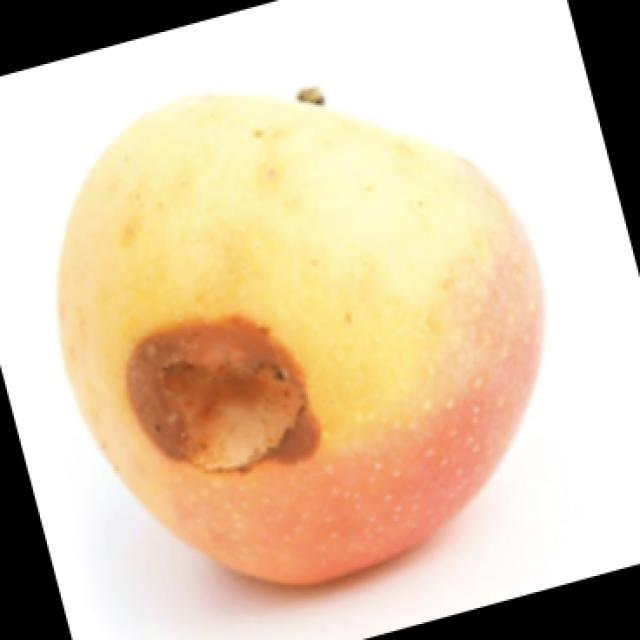Rotten: (59, 71, 558, 592)
